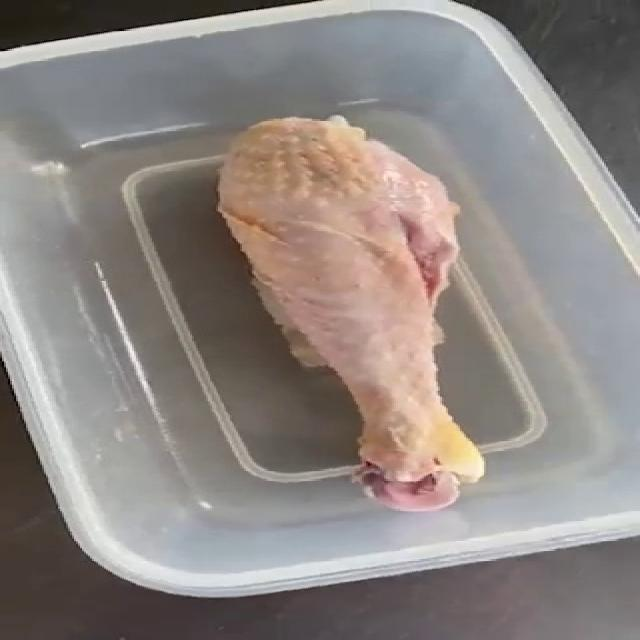chicken: (216, 115, 488, 511)
